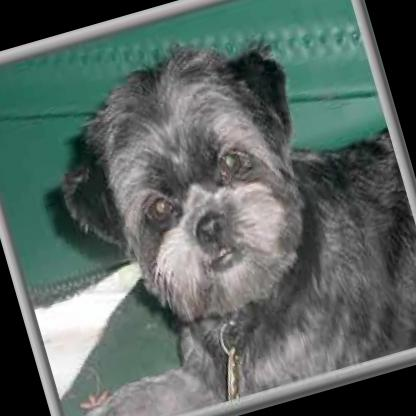affenpinscher: (18, 0, 416, 416)
